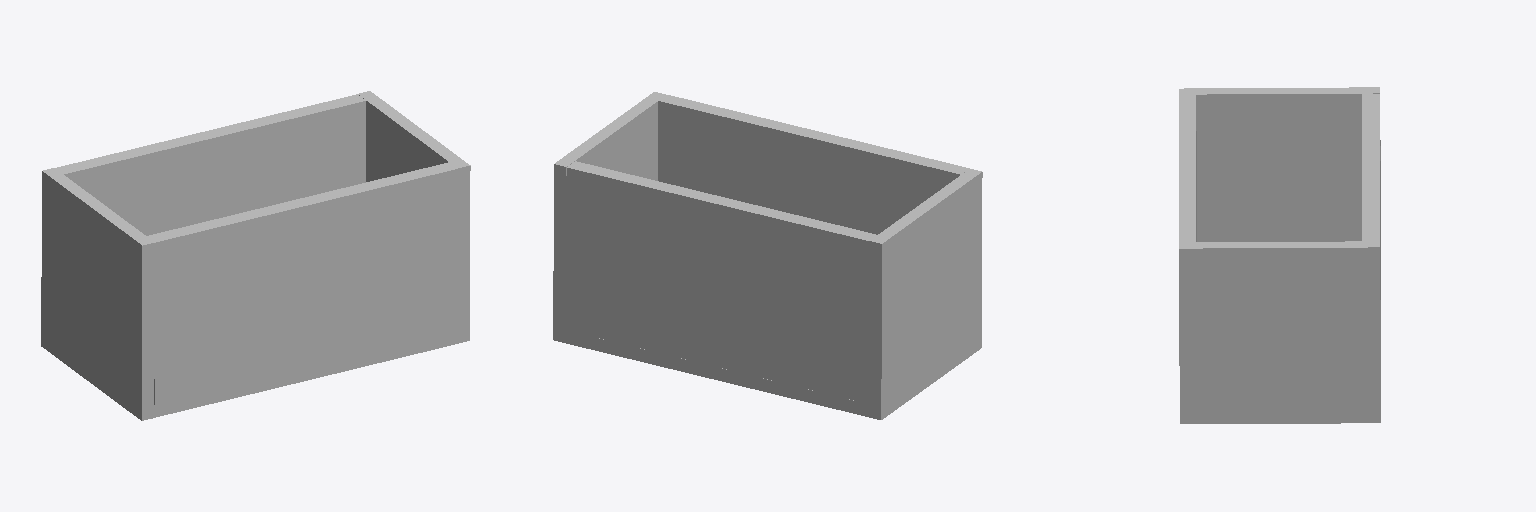
Rendered from chest.obj.
The picture shows the model from 3 angles: view 1: azimuth 30°, elevation 25°; view 2: azimuth 150°, elevation 25°; view 3: azimuth 270°, elevation 25°; orthographic projection.
Visible parts, largest first — view 1: Cube.004; view 2: Cube.004; view 3: Cube.004.
Boxes of the visible parts, x1,y1,x2,y2 form: Cube.004: [41, 91, 470, 420]; Cube.004: [553, 92, 982, 419]; Cube.004: [1179, 87, 1380, 423].
Size of the model in its own units: 3.62 by 1.87 by 1.94.